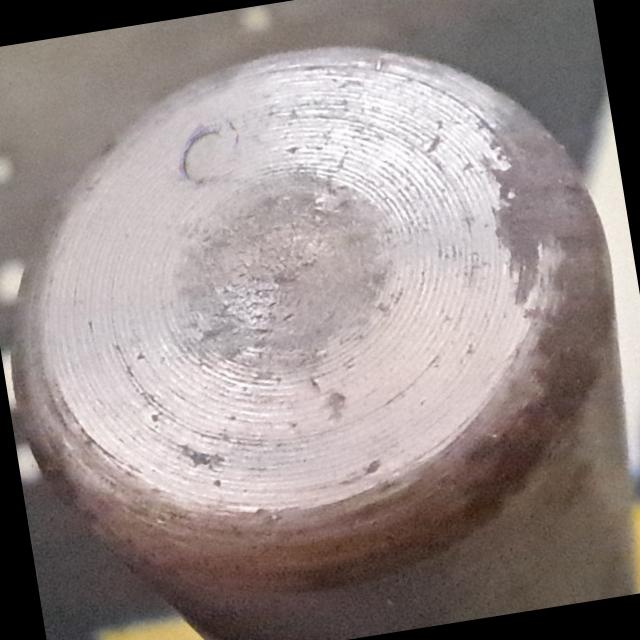defect: (169, 108, 250, 191)
planson: (11, 37, 640, 640)
